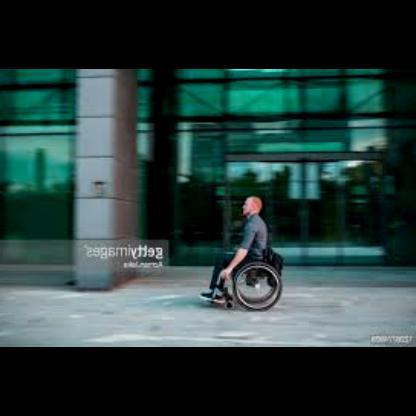person: (214, 195, 270, 304)
wheelchair: (206, 236, 293, 314)
